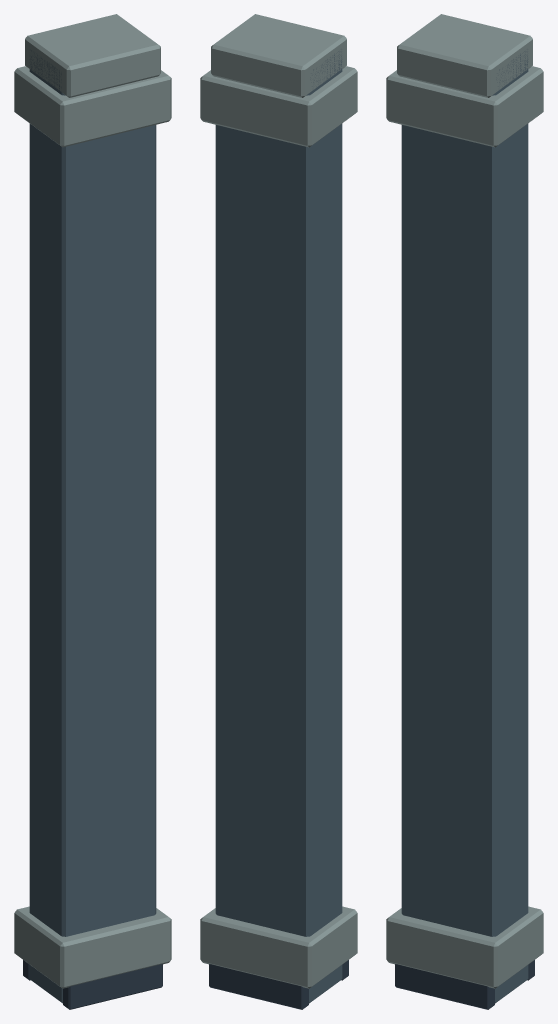
The model's file is wall_pier.glb.
The picture shows the model from 3 angles, left to right: view 1: azimuth 30°, elevation 25°; view 2: azimuth 150°, elevation 25°; view 3: azimuth 330°, elevation 25°; orthographic projection.
Visible parts, largest first — view 1: wall_pier__wall, wall_pier__metal_light, wall_pier__metal; view 2: wall_pier__wall, wall_pier__metal_light, wall_pier__metal; view 3: wall_pier__wall, wall_pier__metal_light, wall_pier__metal.
Boxes of the visible parts, x1,y1,x2,y2 form: wall_pier__wall: (29, 49, 156, 1003); wall_pier__metal_light: (14, 14, 171, 988); wall_pier__metal: (23, 960, 162, 1009); wall_pier__wall: (215, 49, 342, 1003); wall_pier__metal_light: (200, 14, 357, 988); wall_pier__metal: (209, 960, 348, 1009); wall_pier__wall: (401, 49, 528, 1003); wall_pier__metal_light: (386, 14, 543, 988); wall_pier__metal: (395, 960, 534, 1009).
Bounding box in the file's own units: 0.33 × 2.66 × 0.25.
